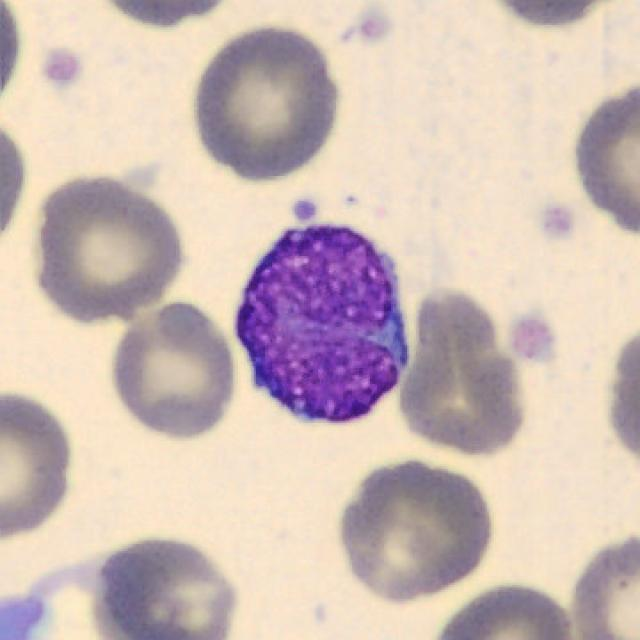Linfocito: (236, 228, 409, 421)
